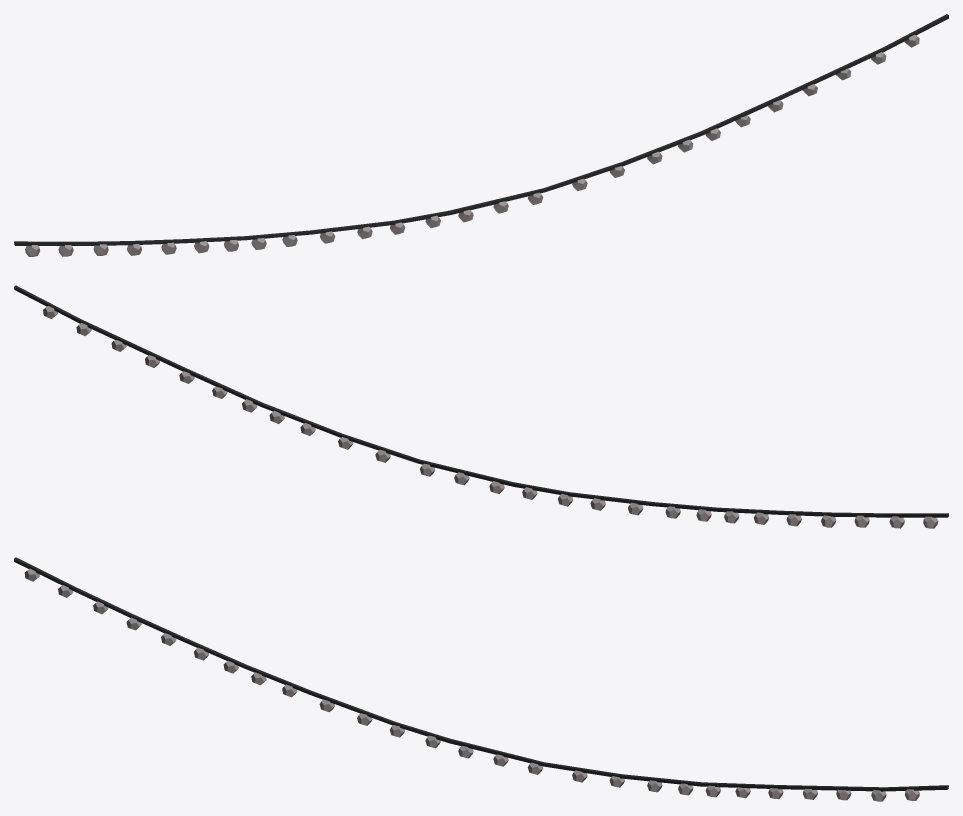
Rendered from SM_Prop_Light_03.glb.
3 renders of one model, top to bottom at view 1: azimuth 30°, elevation 25°; view 2: azimuth 150°, elevation 25°; view 3: azimuth 330°, elevation 25°, orthographic.
Parts seen in each view (by area): view 1: SM_Prop_Light_03; view 2: SM_Prop_Light_03; view 3: SM_Prop_Light_03.
Boxes of the visible parts, x1,y1,x2,y2 form: SM_Prop_Light_03: (14,14,948,256); SM_Prop_Light_03: (14,285,948,528); SM_Prop_Light_03: (14,557,948,801).
Size of the model in its own units: 999 by 91.89 by 13.78.
1 material, 1 textured.
